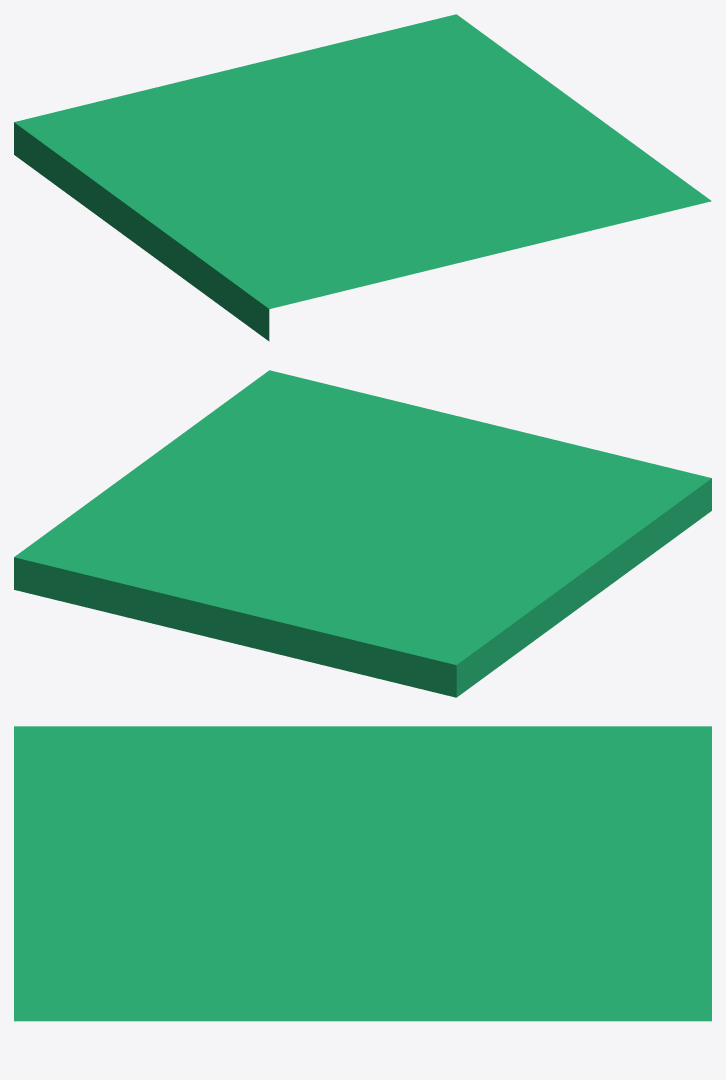
The model's file is Esquina 2.FBX.
3 renders of one model, top to bottom at view 1: azimuth 30°, elevation 25°; view 2: azimuth 150°, elevation 25°; view 3: azimuth 270°, elevation 25°, orthographic. The views are drawn at different scales.
Visible parts, largest first — view 1: corner; view 2: corner; view 3: corner.
Part boxes in pixels (x1,y1,x2,y2): corner: (14,14,711,341); corner: (14,370,711,697); corner: (14,726,711,1021).
Size of the model in its own units: 89.99 by 6.33 by 89.99.
